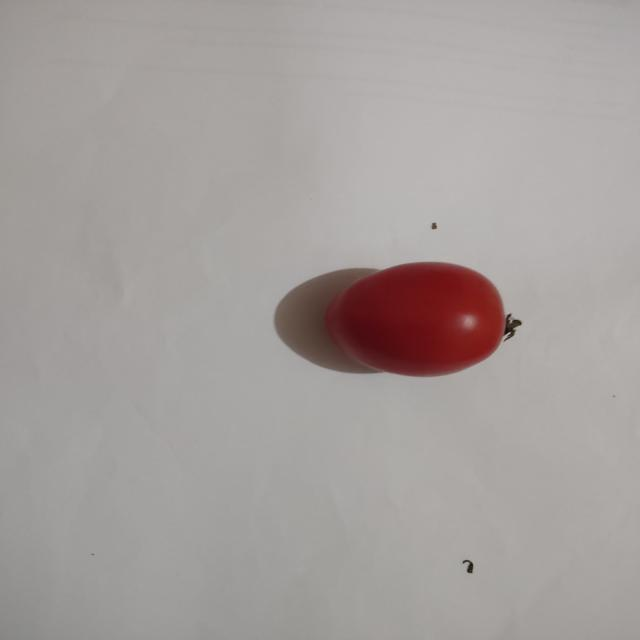kirmizi: (308, 240, 566, 408)
